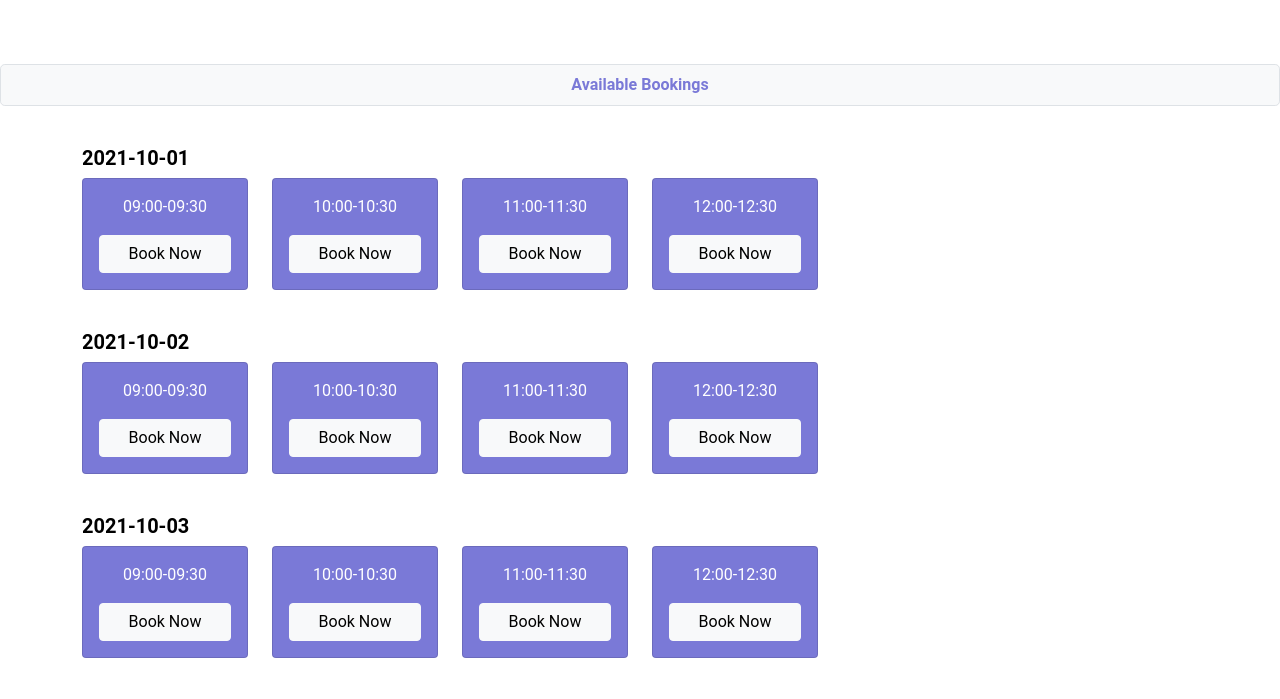
Test: should render Booking Confirmation page
Click the 1st button "Book Now" at (165, 254), box [99,235,231,273]
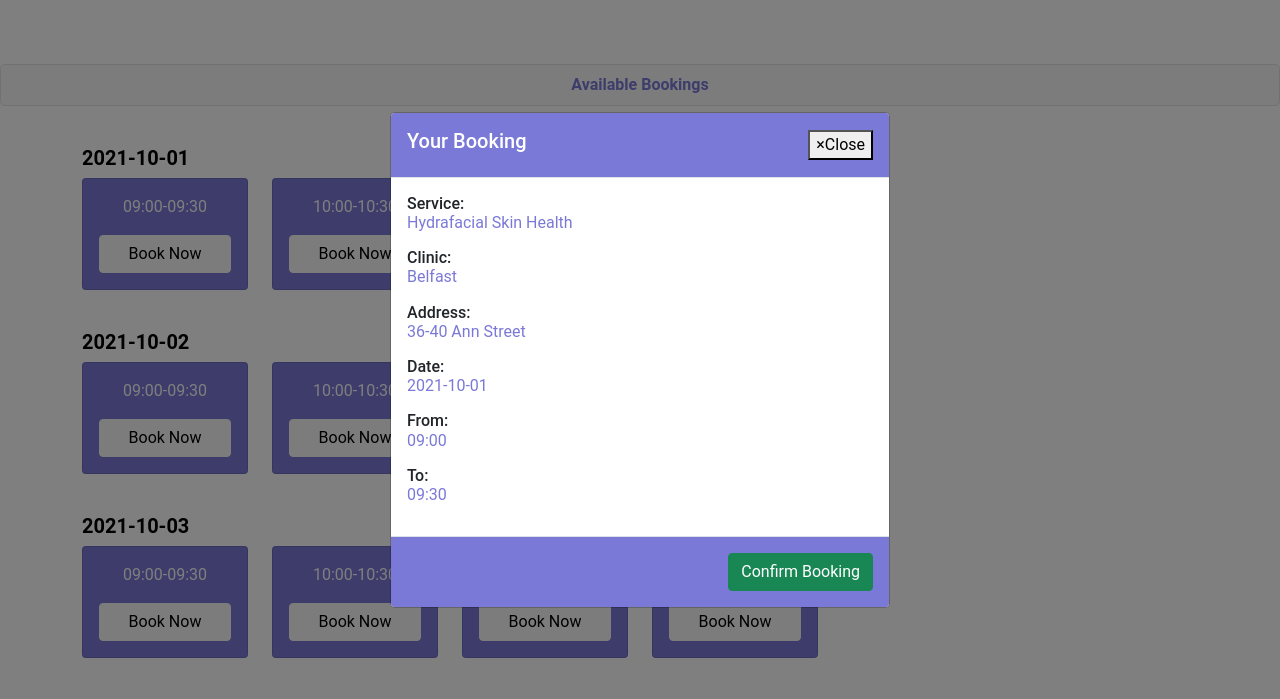
Now the heading "Your Booking" is shown, box [407,129,526,153]
